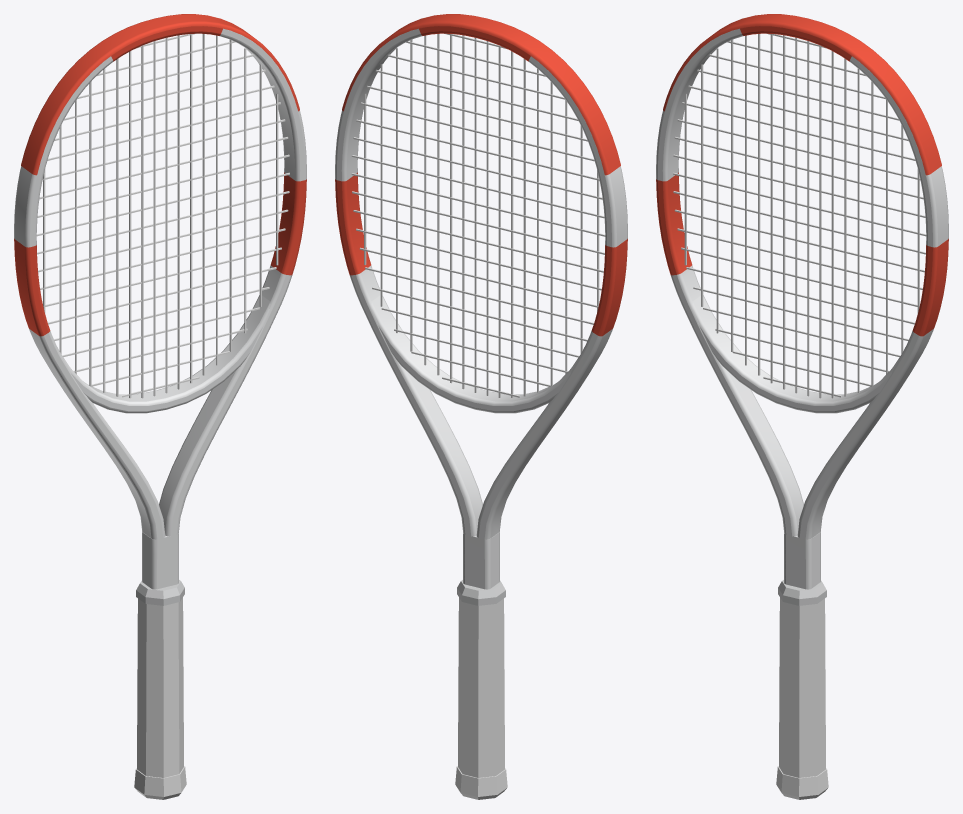
File: babolat-pure-strike-98-18x20-2019.glb
The picture shows the model from 3 angles, left to right: view 1: azimuth 30°, elevation 25°; view 2: azimuth 150°, elevation 25°; view 3: azimuth 330°, elevation 25°; orthographic projection.
Parts seen in each view (by area): view 1: frame, strings_mains, strings_crosses, grip, bumper, butt_cap, collar; view 2: frame, strings_mains, strings_crosses, grip, bumper, butt_cap, collar; view 3: frame, strings_mains, strings_crosses, grip, bumper, butt_cap, collar.
Part boxes in pixels (left/top/right/bottom): frame: left=14, top=26, right=306, bottom=589; strings_mains: left=43, top=34, right=278, bottom=398; strings_crosses: left=36, top=33, right=289, bottom=397; grip: left=137, top=598, right=183, bottom=777; bumper: left=21, top=14, right=299, bottom=175; butt_cap: left=134, top=766, right=186, bottom=799; collar: left=136, top=580, right=184, bottom=605; frame: left=335, top=26, right=627, bottom=589; strings_mains: left=364, top=34, right=599, bottom=397; strings_crosses: left=351, top=33, right=605, bottom=397; grip: left=458, top=598, right=504, bottom=777; bumper: left=342, top=14, right=620, bottom=175; butt_cap: left=455, top=766, right=507, bottom=799; collar: left=457, top=580, right=505, bottom=605; frame: left=656, top=26, right=948, bottom=589; strings_mains: left=684, top=34, right=919, bottom=398; strings_crosses: left=673, top=33, right=926, bottom=397; grip: left=779, top=598, right=825, bottom=777; bumper: left=663, top=14, right=941, bottom=175; butt_cap: left=776, top=766, right=828, bottom=799; collar: left=778, top=580, right=826, bottom=605.
Size of the model in its own units: 0.2634 by 0.6861 by 0.0396.
